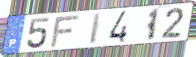1: (147, 7, 161, 42)
2: (161, 6, 186, 40)
4: (107, 10, 129, 45)
5: (26, 17, 52, 50)
F: (48, 14, 82, 50)
I: (88, 12, 104, 45)
